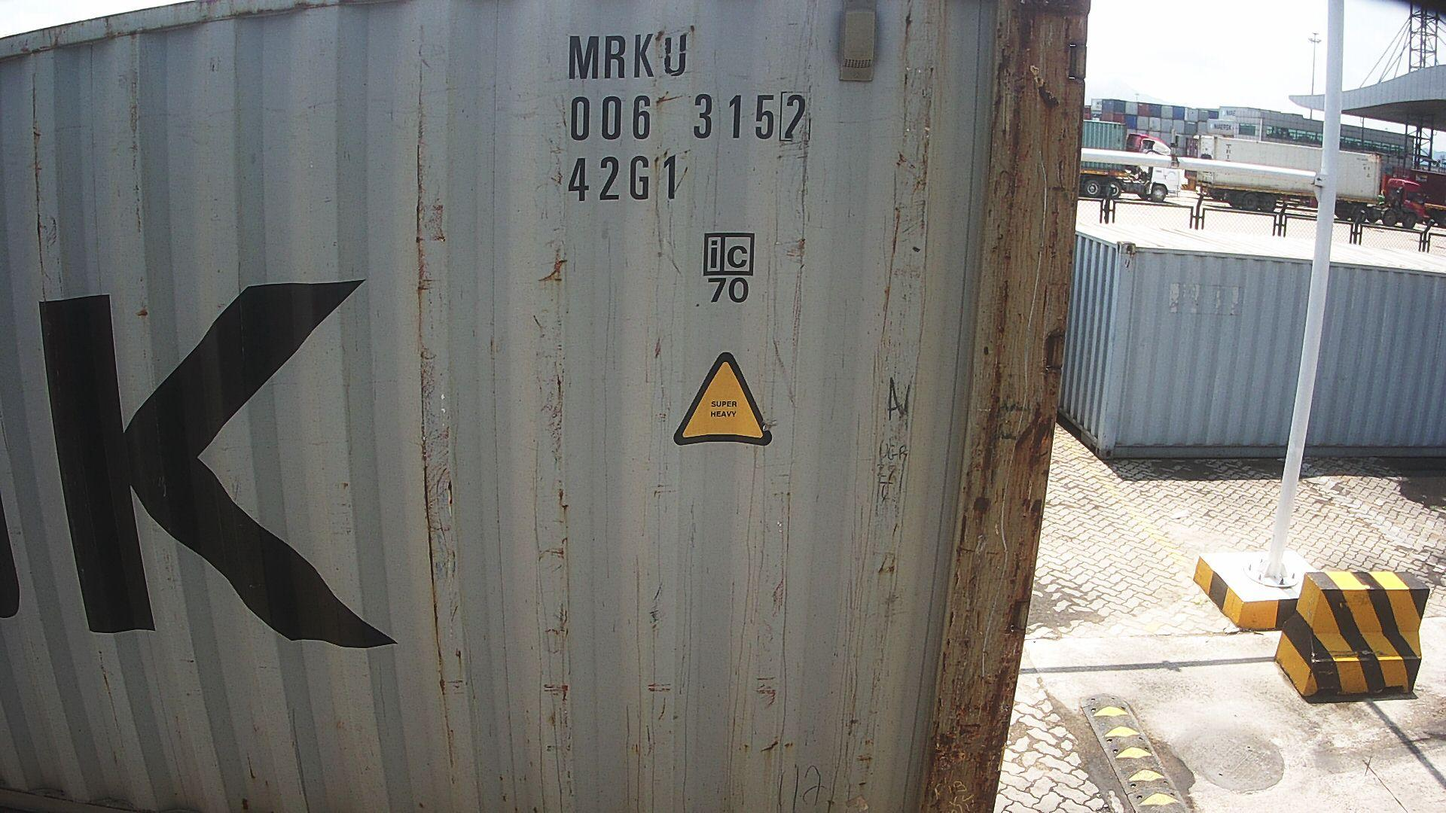container-numbers: (563, 89, 813, 147), (564, 29, 693, 84), (567, 152, 685, 206)
